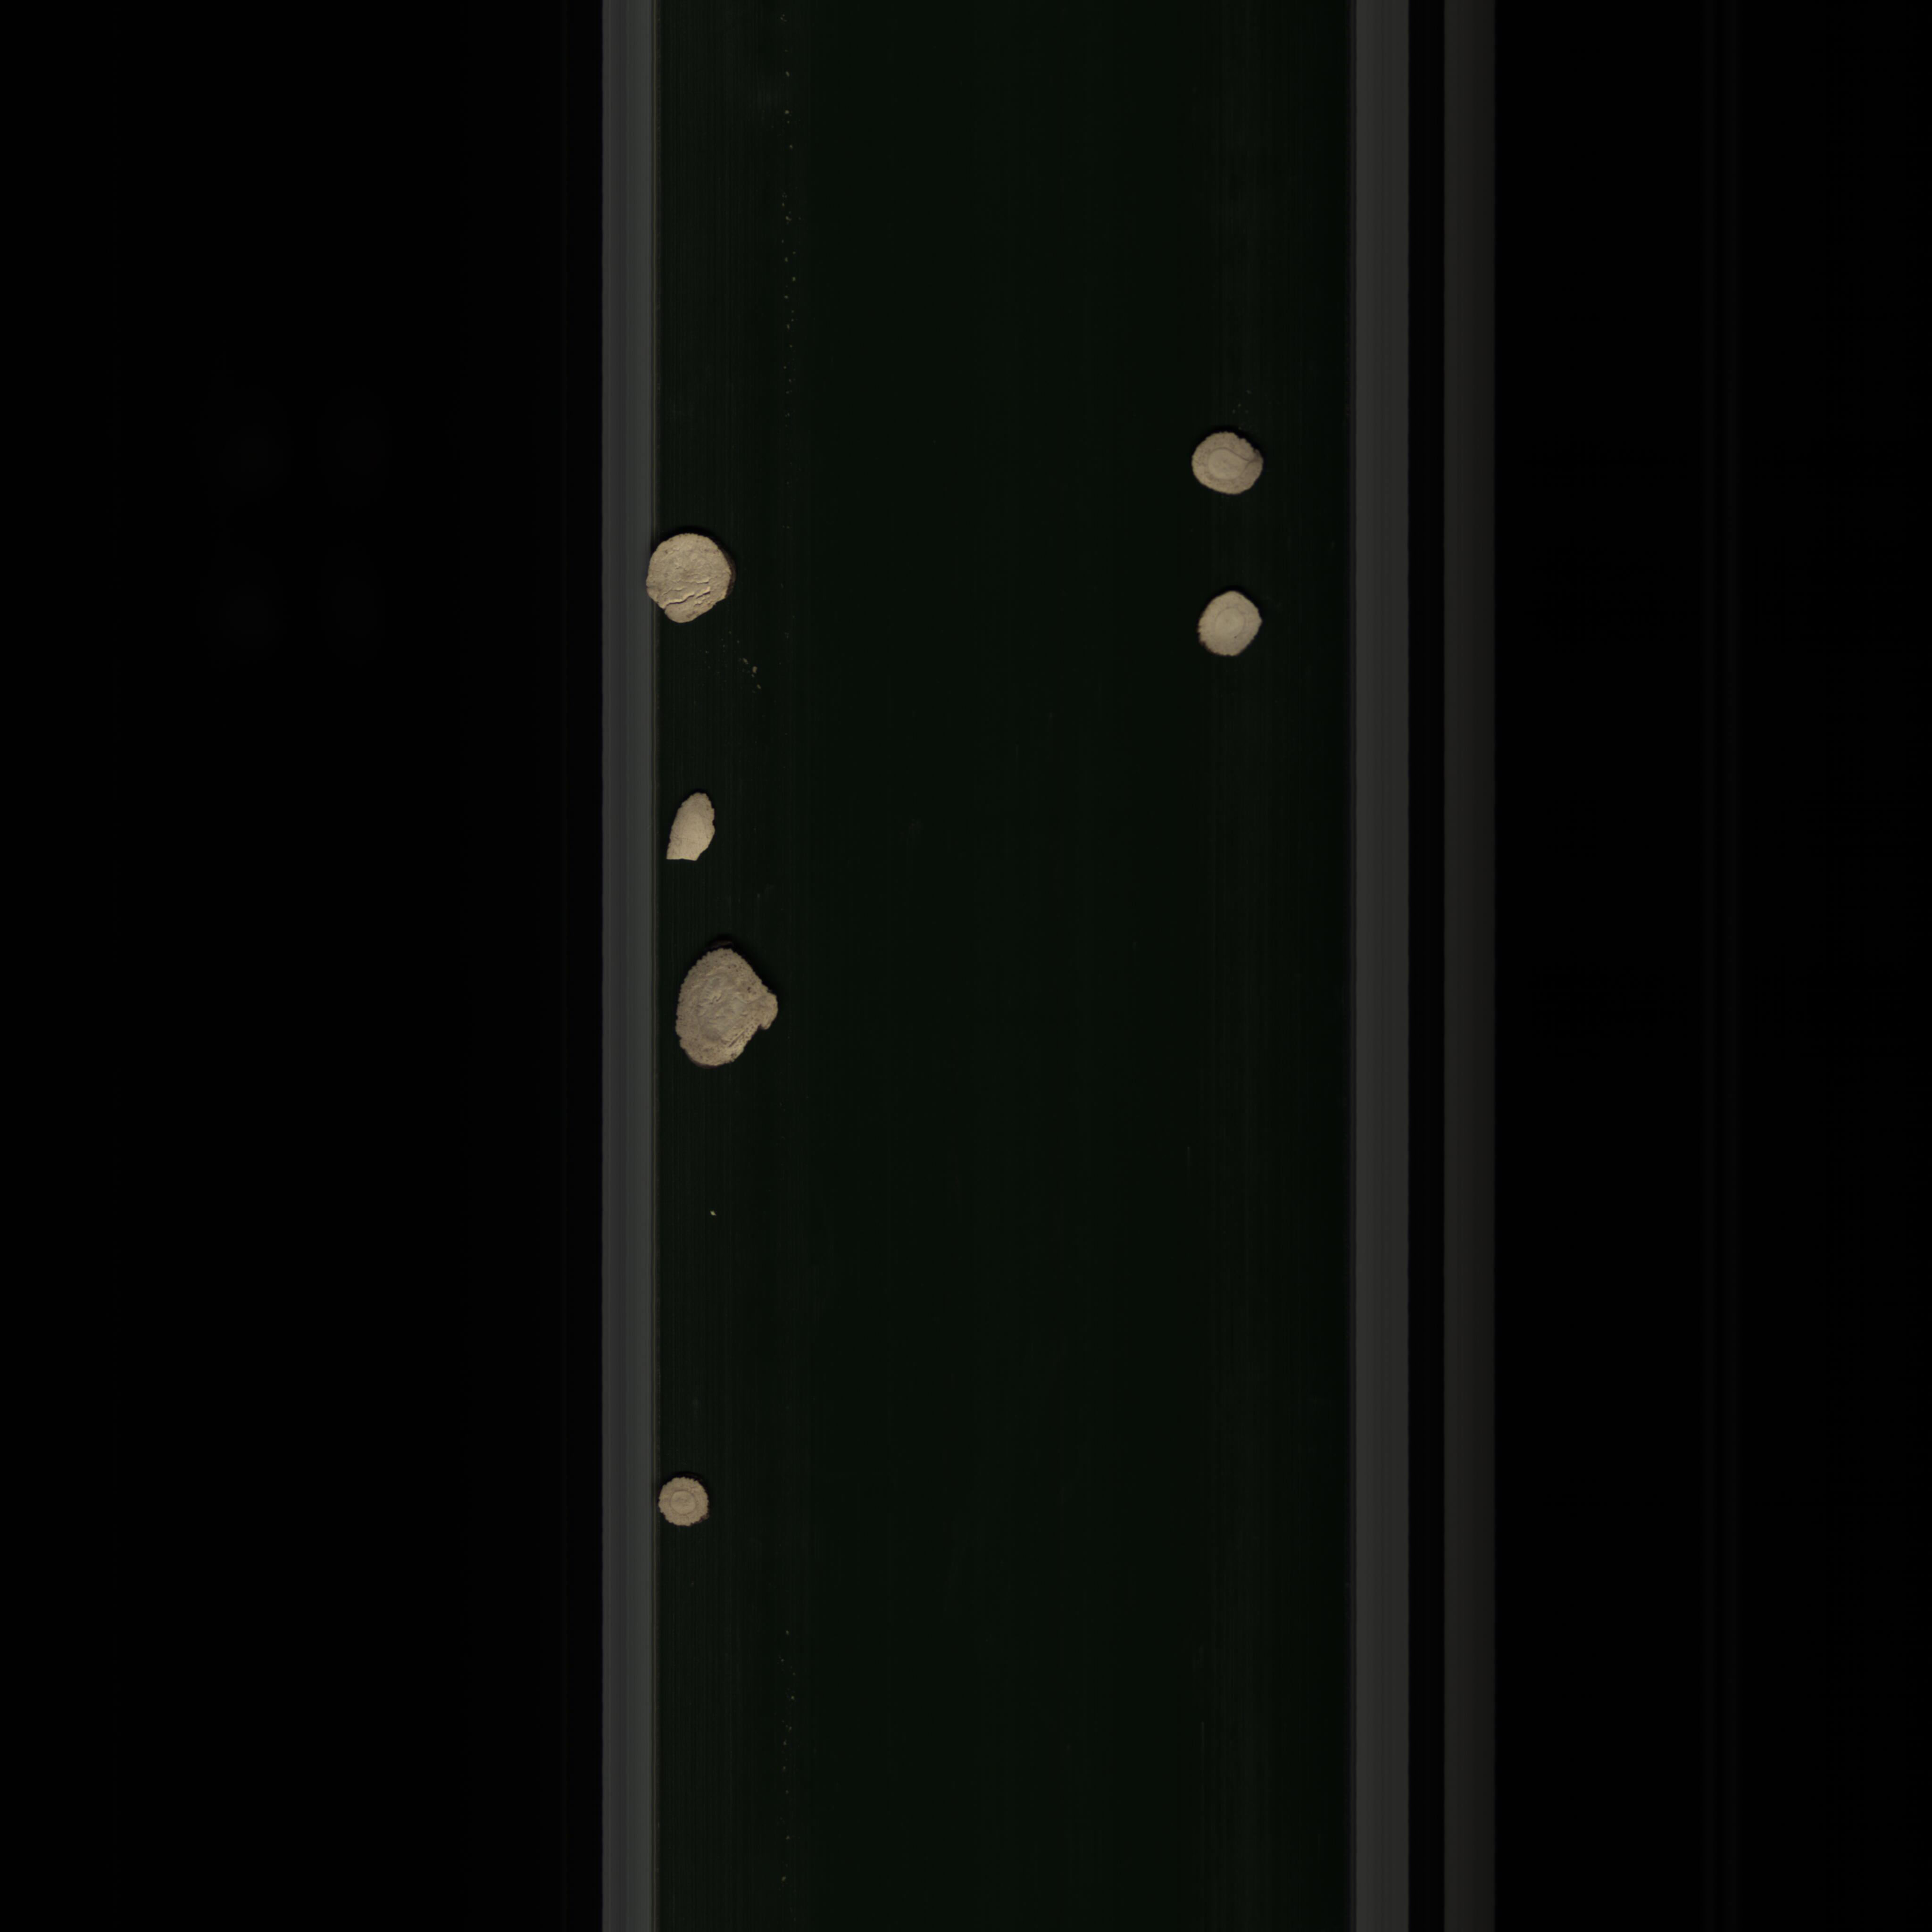debris: (672, 941, 787, 1072), (658, 780, 727, 879)
